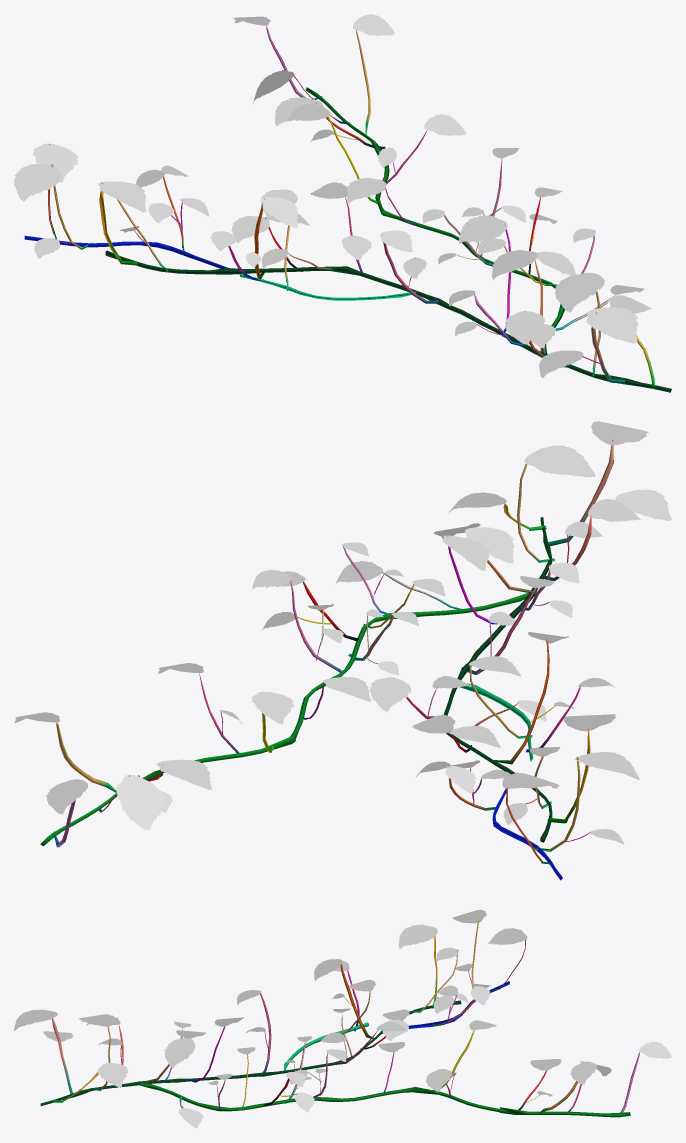
Rendered from Ivy.fbx.
3 renders of one model, top to bottom at view 1: azimuth 30°, elevation 25°; view 2: azimuth 150°, elevation 25°; view 3: azimuth 270°, elevation 25°, orthographic. The views are drawn at different scales.
Visible parts, largest first — view 1: Ivy; view 2: Ivy; view 3: Ivy.
Part boxes in pixels (left/top/right/bottom): Ivy: left=14, top=14, right=671, bottom=392; Ivy: left=14, top=421, right=671, bottom=880; Ivy: left=14, top=909, right=671, bottom=1128.
Size of the model in its own units: 52.52 by 11.05 by 88.39.
